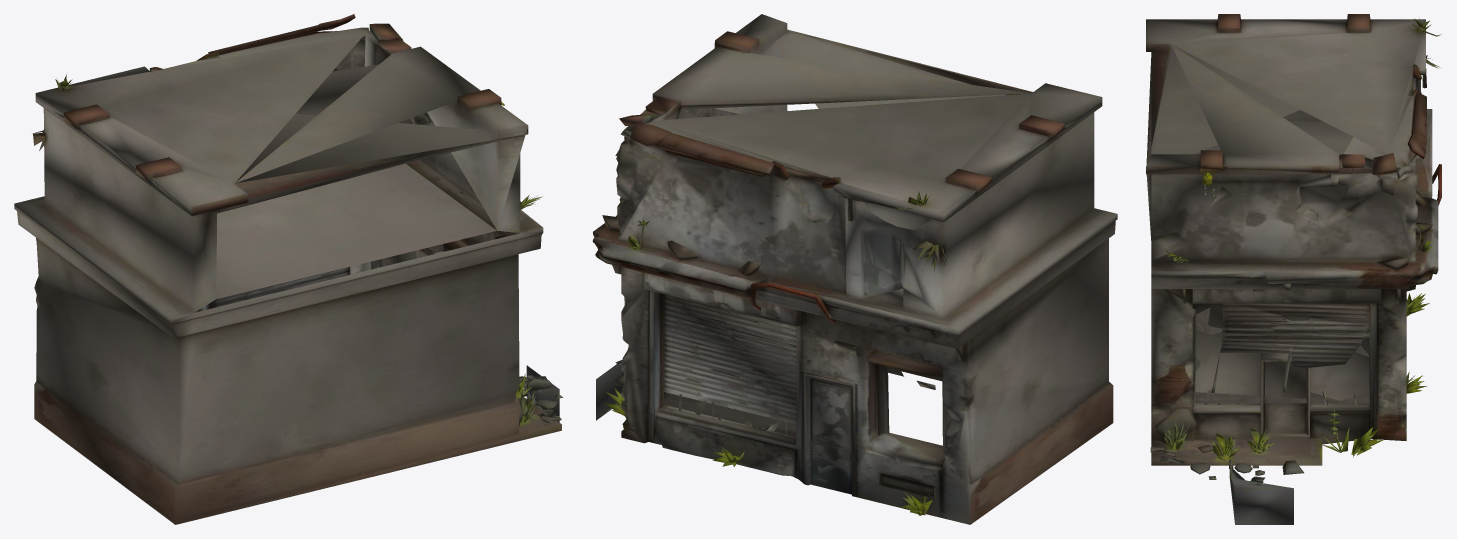
File: ruined_street_storefront.glb
3 views of the same model, side by side, from view 1: azimuth 30°, elevation 25°; view 2: azimuth 150°, elevation 25°; view 3: azimuth 270°, elevation 25° (orthographic). The views are drawn at different scales.
Visible parts, largest first — view 1: tripo_node_bafc3d6a-82ac-4929-8f0d-37c070f81978; view 2: tripo_node_bafc3d6a-82ac-4929-8f0d-37c070f81978; view 3: tripo_node_bafc3d6a-82ac-4929-8f0d-37c070f81978.
Boxes of the visible parts, x1,y1,x2,y2 form: tripo_node_bafc3d6a-82ac-4929-8f0d-37c070f81978: [14, 14, 562, 524]; tripo_node_bafc3d6a-82ac-4929-8f0d-37c070f81978: [592, 14, 1117, 524]; tripo_node_bafc3d6a-82ac-4929-8f0d-37c070f81978: [1146, 14, 1441, 524].
Size of the model in its own units: 0.998 by 0.8184 by 0.6582.
Materials: 1 (1 with a texture image).
